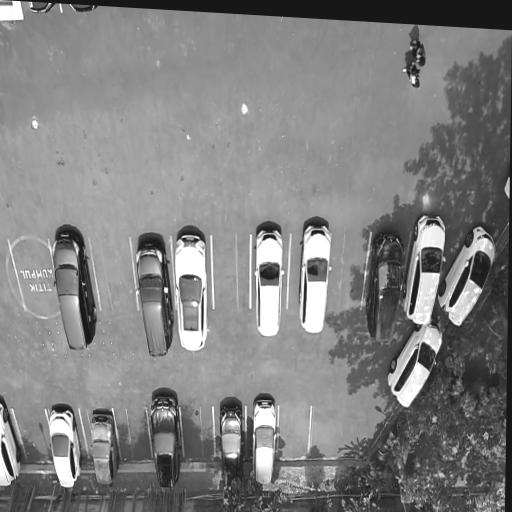Car: (434, 218, 503, 339), (47, 228, 102, 355), (384, 316, 449, 415), (398, 213, 450, 329), (132, 233, 176, 362), (171, 226, 212, 360), (295, 212, 334, 336), (365, 231, 404, 349), (252, 219, 286, 345), (147, 389, 184, 496), (45, 405, 88, 492), (214, 400, 247, 505), (247, 391, 279, 495), (87, 410, 123, 492), (0, 397, 26, 488), (28, 2, 60, 18), (68, 4, 98, 15)
Space Available: (7, 241, 58, 312), (89, 240, 138, 311), (327, 232, 369, 312), (213, 238, 250, 311), (13, 410, 55, 465), (113, 410, 153, 467), (180, 408, 214, 466), (277, 407, 311, 462), (0, 242, 23, 313)
